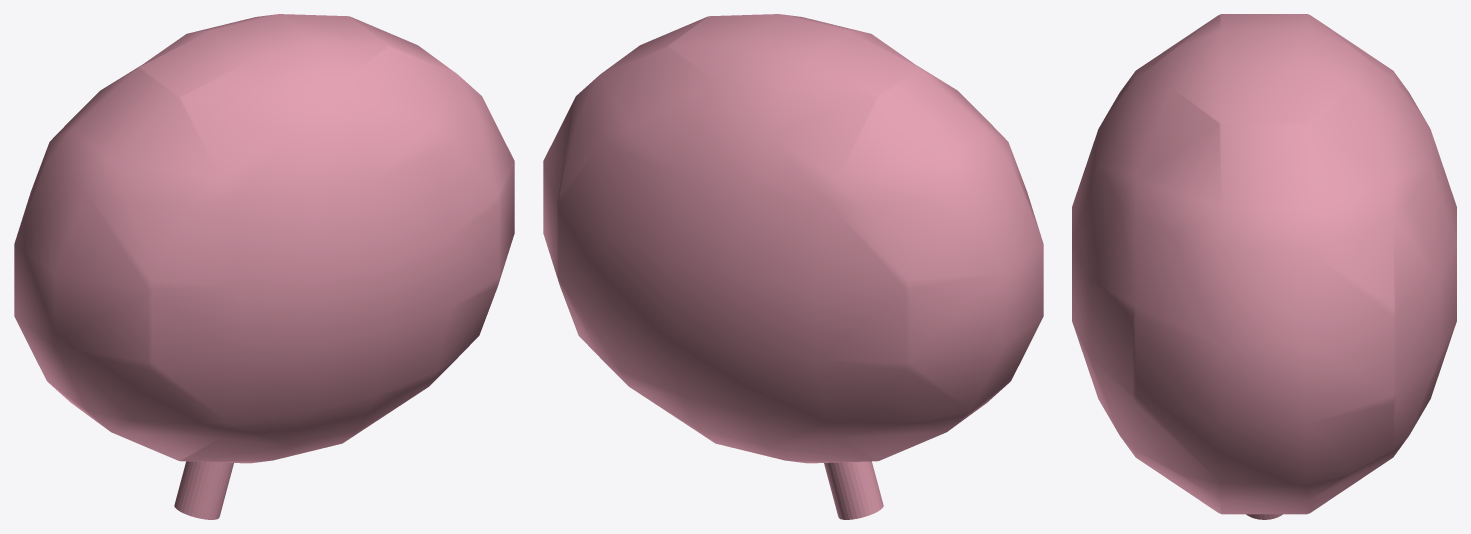
The model's file is brain.fbx.
The picture shows the model from 3 angles, left to right: view 1: azimuth 30°, elevation 25°; view 2: azimuth 150°, elevation 25°; view 3: azimuth 270°, elevation 25°; orthographic projection. The views are drawn at different scales.
Visible parts, largest first — view 1: node_id6, node_id8; view 2: node_id6, node_id8; view 3: node_id6.
Boxes of the visible parts, left/top/right/bottom form: node_id6: left=14, top=14, right=514, bottom=463; node_id8: left=174, top=461, right=233, bottom=519; node_id6: left=543, top=14, right=1043, bottom=463; node_id8: left=824, top=461, right=883, bottom=519; node_id6: left=1072, top=14, right=1456, bottom=514.
Bounding box in the file's own units: 0.3403 × 0.3278 × 0.23.
Materials: 2 (2 with a texture image).
